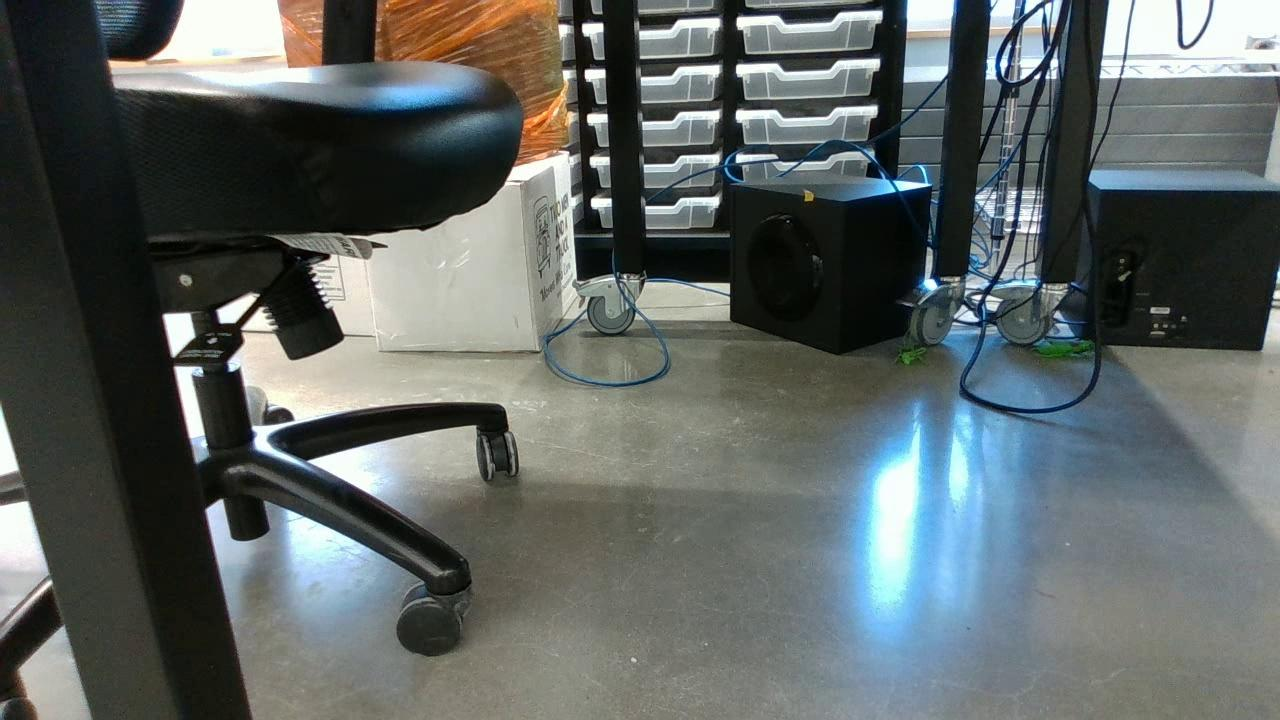grasshopper: (1027, 338, 1094, 359), (895, 344, 929, 368)
